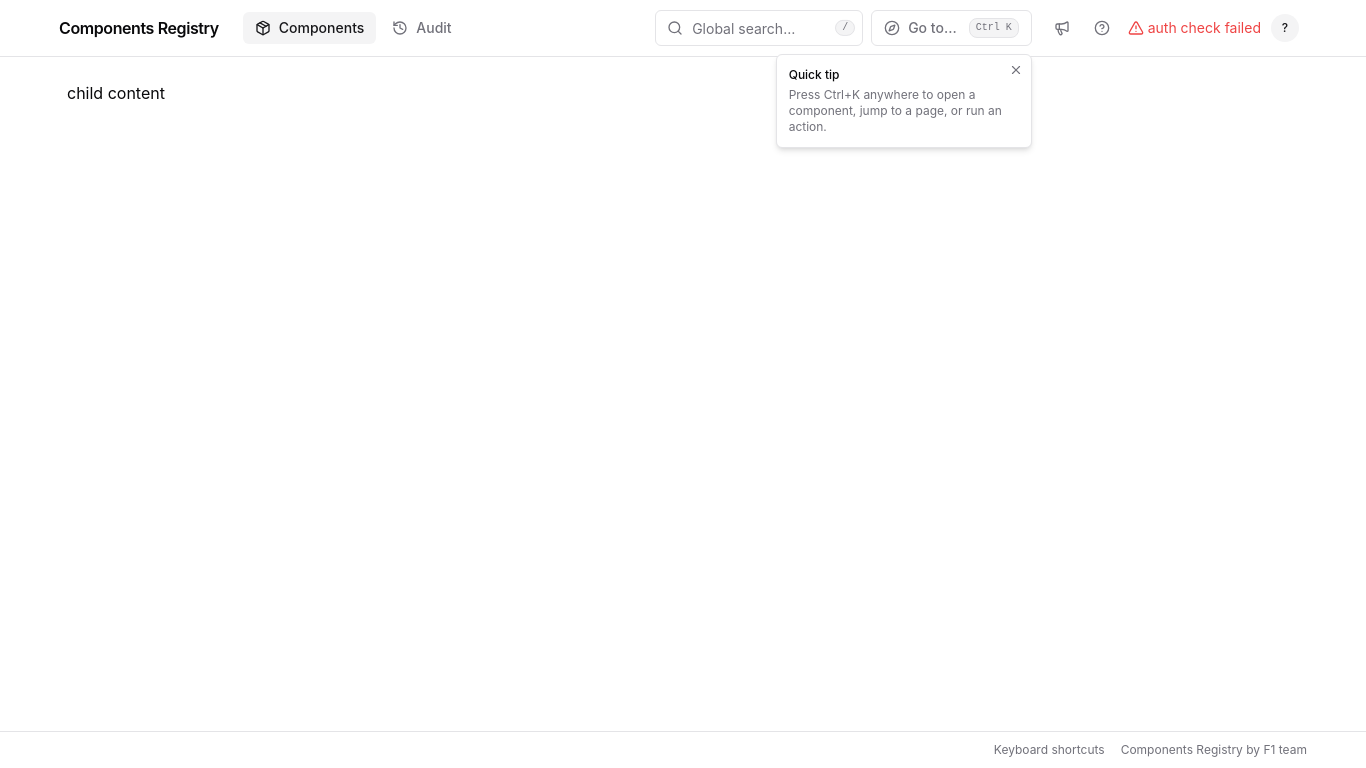
Layout nav visibility › fails open on auth backend error — shows all nav items and an auth-failed indicator
Check: the link "Components" is shown, box [243,12,376,44]
Check: the link "Audit" is shown, box [392,19,452,36]
What coordinates should you click on to do the following:
click the button named "Account"
I would click on:
 (1288, 28)
Its box is [1269,10,1307,46].
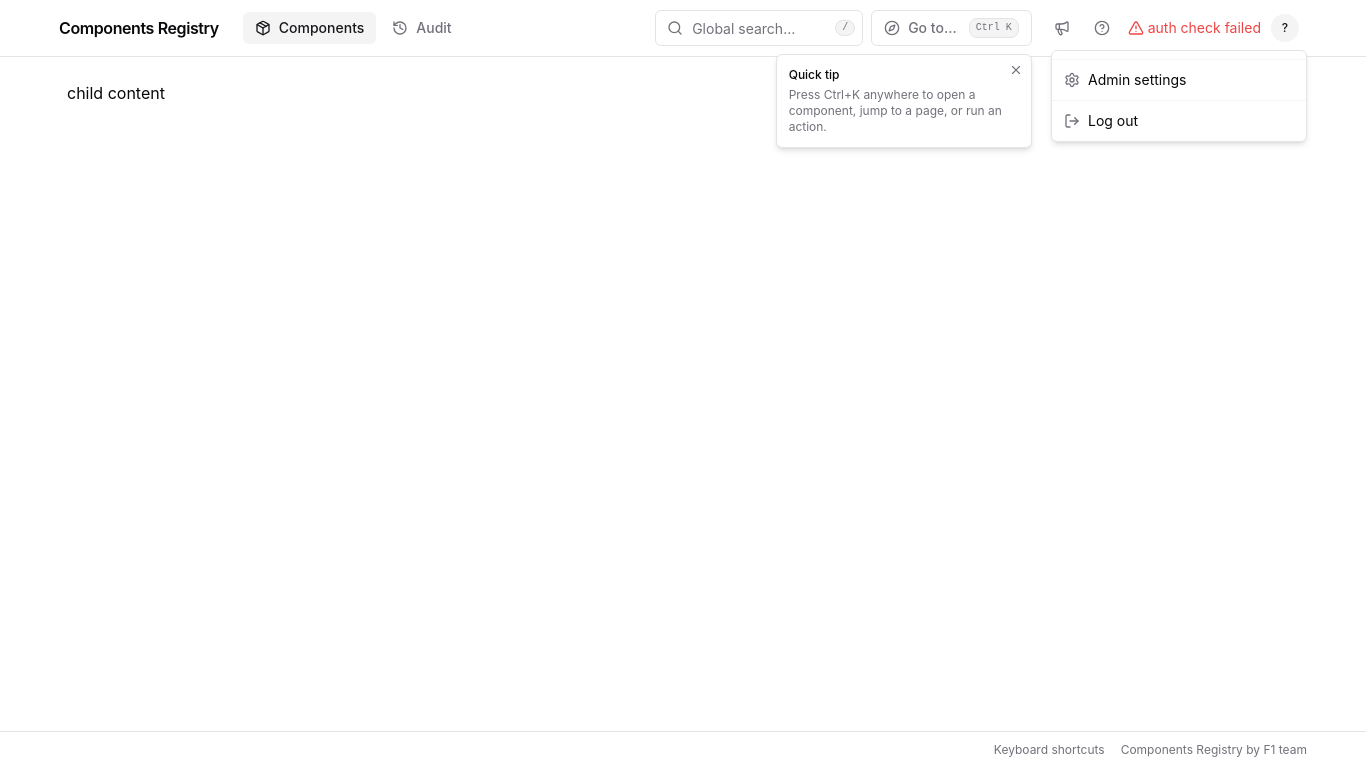
Check: the menu item "Admin settings" is shown, box [1064,71,1186,88]
